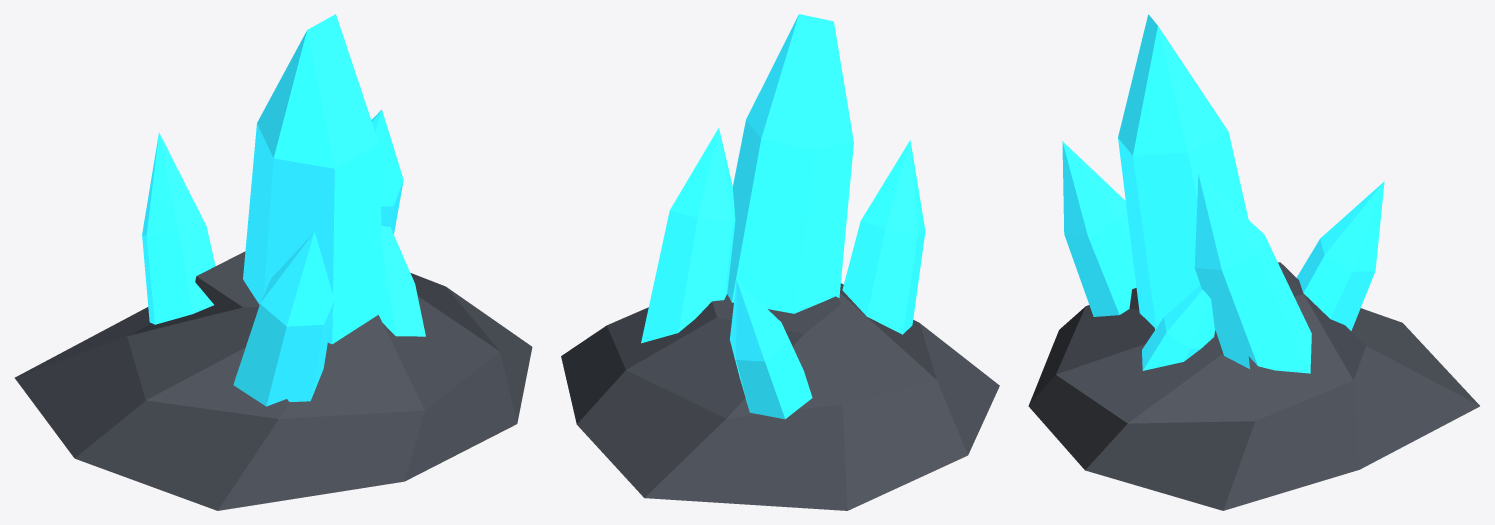
File: PROP_01_SmallCrystalCluster.fbx
3 views of the same model, side by side, from view 1: azimuth 30°, elevation 25°; view 2: azimuth 150°, elevation 25°; view 3: azimuth 270°, elevation 25° (orthographic). The views are drawn at different scales.
Parts seen in each view (by area): view 1: PROP_01_SmallCrystalCluster; view 2: PROP_01_SmallCrystalCluster; view 3: PROP_01_SmallCrystalCluster.
Part boxes in pixels (box(x1,y1,x2,y2)): PROP_01_SmallCrystalCluster: box(14, 14, 532, 510); PROP_01_SmallCrystalCluster: box(561, 14, 999, 510); PROP_01_SmallCrystalCluster: box(1028, 14, 1479, 510).
Size of the model in its own units: 117 by 101 by 109.
